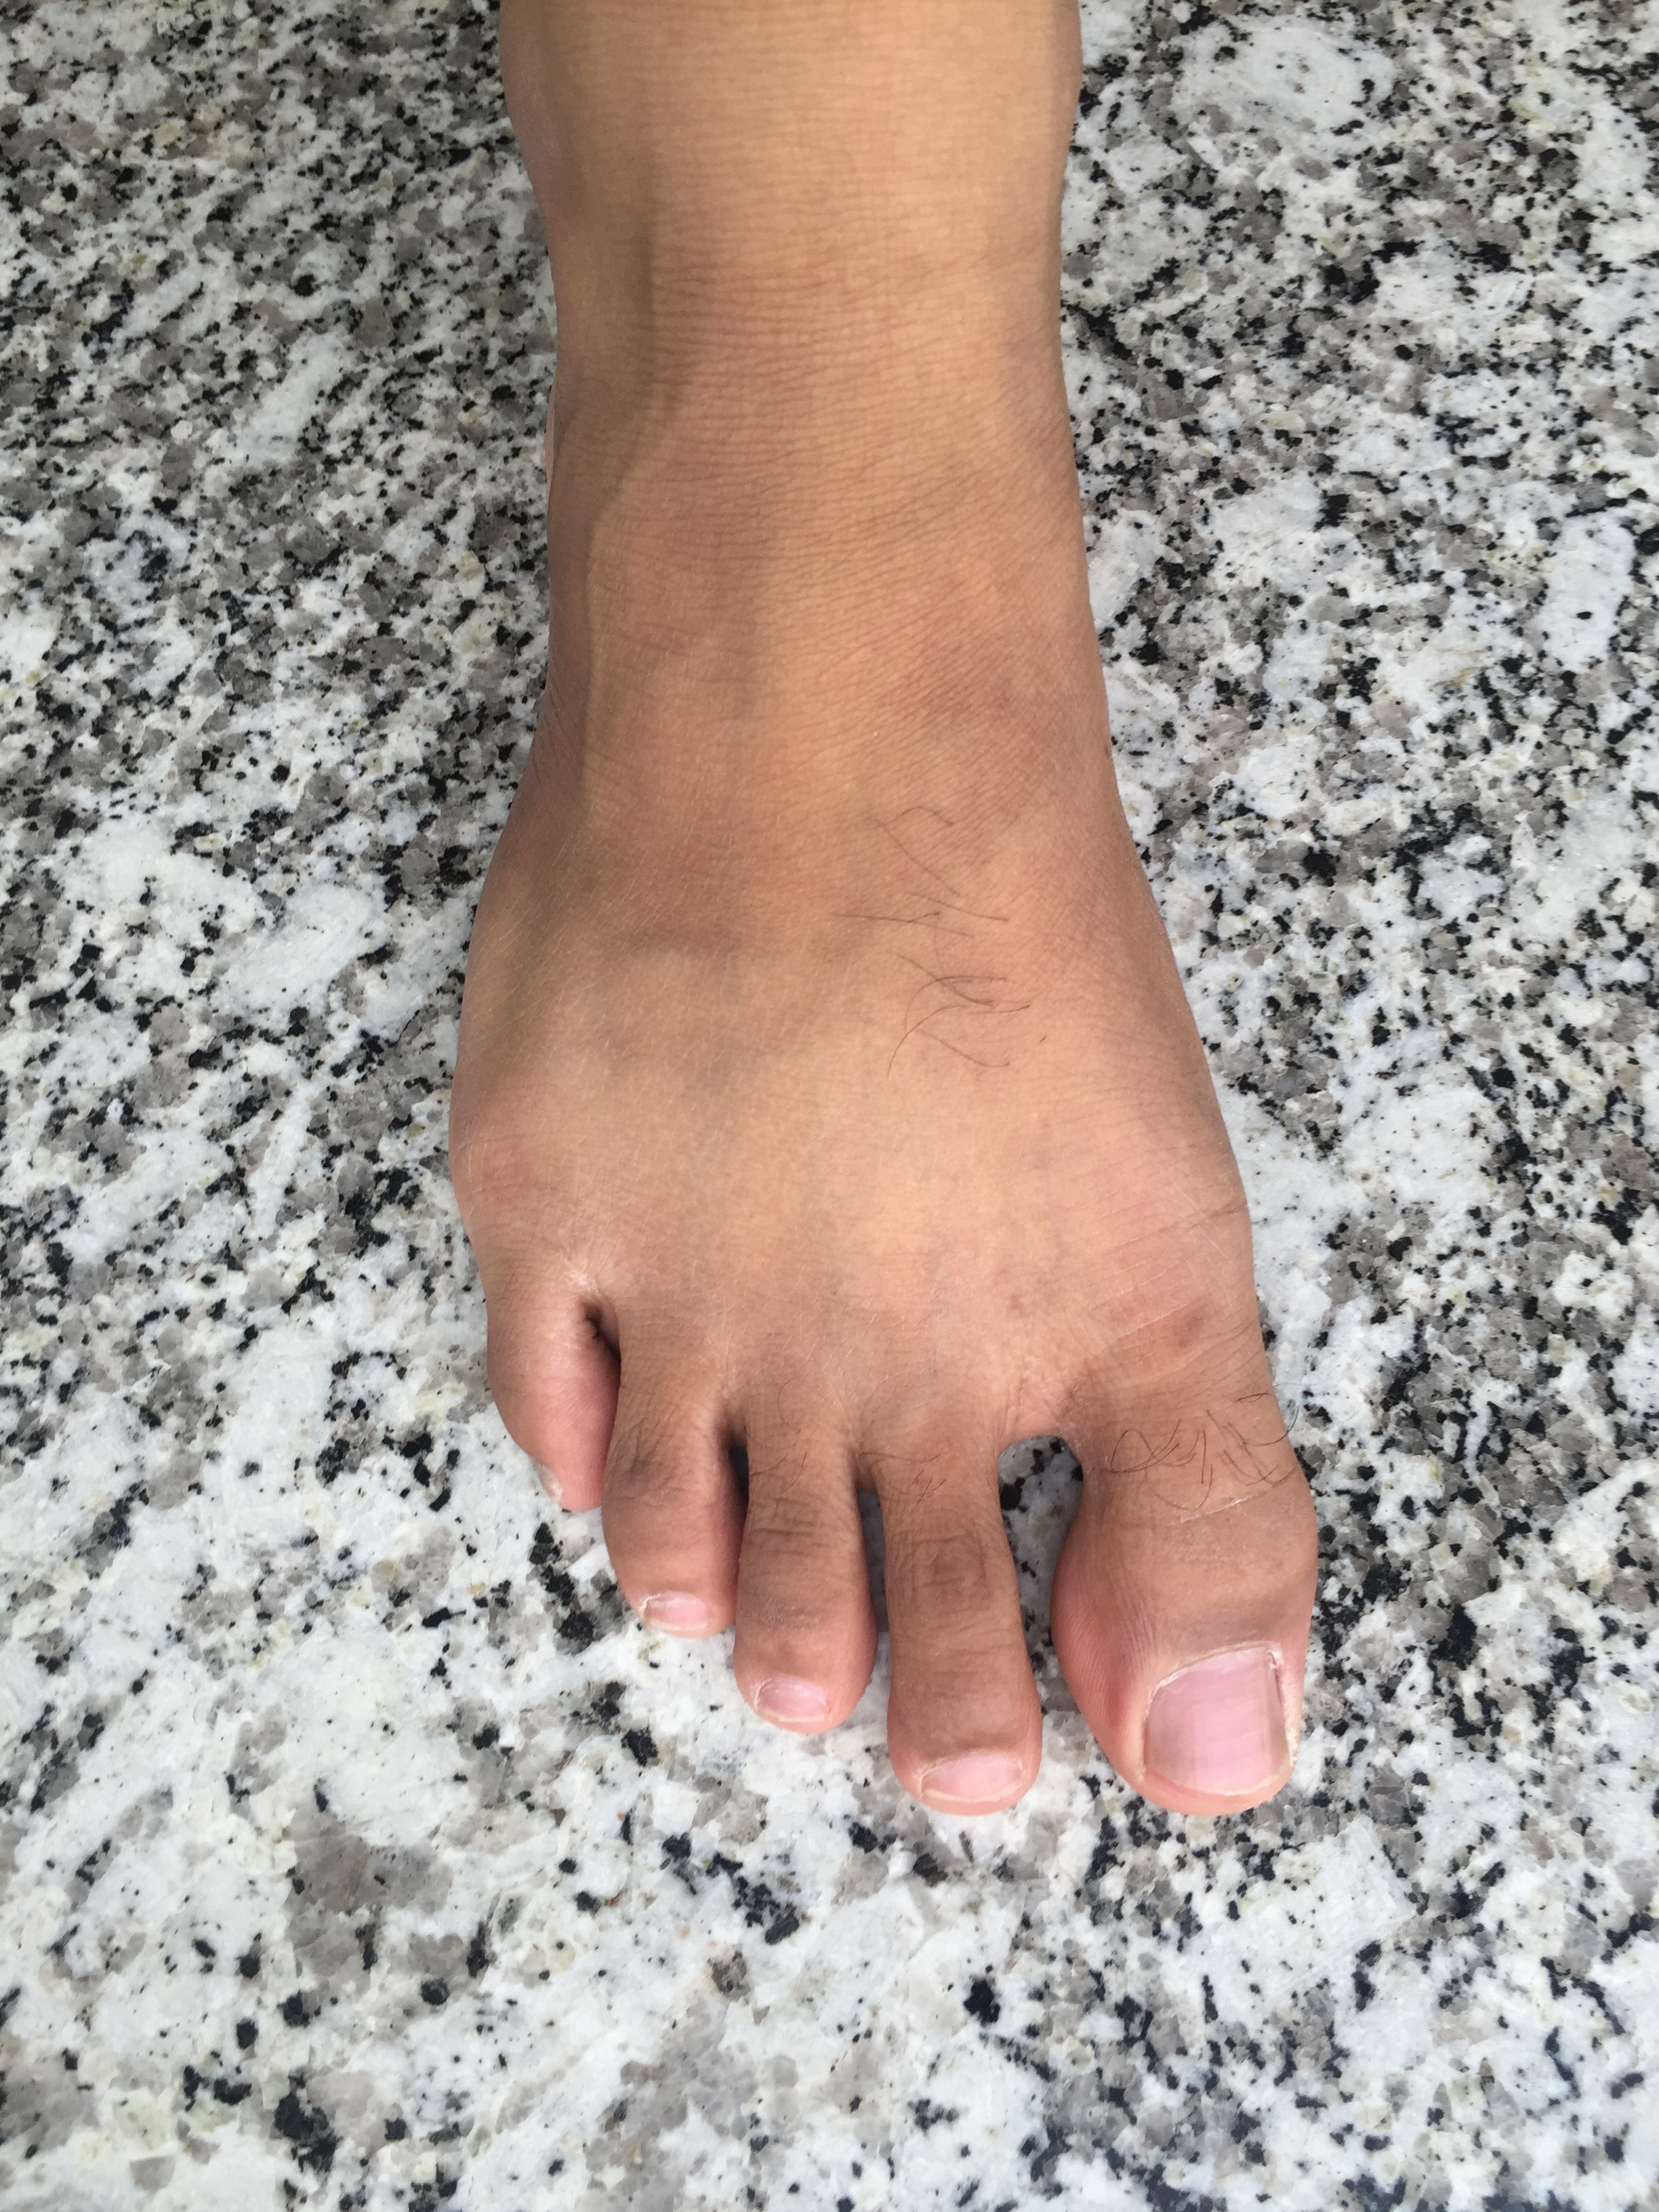feet: (296, 31, 1356, 1839)
